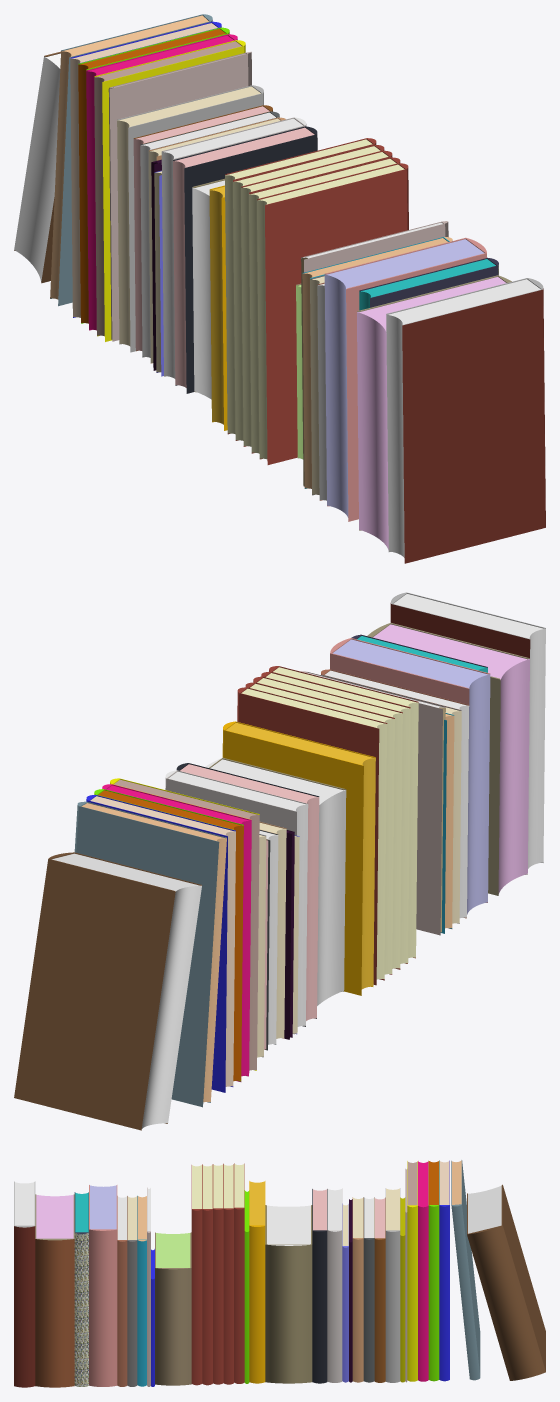
The model's file is kitap.obj.
3 renders of one model, top to bottom at view 1: azimuth 30°, elevation 25°; view 2: azimuth 150°, elevation 25°; view 3: azimuth 270°, elevation 25°, orthographic. The views are drawn at different scales.
Visible parts, largest first — view 1: Mesh11 Group12 Group1 Model, Mesh34 Group35 Group1 Model, Mesh15 Group16 Group1 Model, Mesh9 Group10 Group1 Model, Mesh5 Group6 Group1 Model, Mesh2 Group3 Group1 Model, Mesh18 Group19 Group1 Model, Mesh22 Group23 Group1 Model, Mesh20 Group21 Group1 Model, Mesh28 Group29 Group1 Model, Mesh6 Group7 Group1 Model, Mesh32 Group33 Group1 Model (+19 smaller); view 2: Mesh22 Group23 Group1 Model, Mesh28 Group29 Group1 Model, Mesh14 Group15 Group1 Model, Mesh9 Group10 Group1 Model, Mesh15 Group16 Group1 Model, Mesh11 Group12 Group1 Model, Mesh25 Group26 Group1 Model, Mesh32 Group33 Group1 Model, Mesh26 Group27 Group1 Model, Mesh21 Group22 Group1 Model, Mesh6 Group7 Group1 Model, Mesh5 Group6 Group1 Model (+16 smaller); view 3: Mesh22 Group23 Group1 Model, Mesh32 Group33 Group1 Model, Mesh9 Group10 Group1 Model, Mesh15 Group16 Group1 Model, Mesh27 Group28 Group1 Model, Mesh11 Group12 Group1 Model, Mesh14 Group15 Group1 Model, Mesh28 Group29 Group1 Model, Mesh2 Group3 Group1 Model, Mesh5 Group6 Group1 Model, Mesh6 Group7 Group1 Model, Mesh3 Group4 Group1 Model (+22 smaller).
Part boxes in pixels (x1,y1,x2,y2): Mesh11 Group12 Group1 Model: (386,278,545,563); Mesh34 Group35 Group1 Model: (257,163,408,464); Mesh15 Group16 Group1 Model: (324,237,486,521); Mesh9 Group10 Group1 Model: (357,275,511,549); Mesh5 Group6 Group1 Model: (173,126,317,393); Mesh2 Group3 Group1 Model: (117,85,263,352); Mesh18 Group19 Group1 Model: (108,51,251,341); Mesh22 Group23 Group1 Model: (14,51,60,283); Mesh20 Group21 Group1 Model: (94,40,245,341); Mesh28 Group29 Group1 Model: (50,14,212,306); Mesh6 Group7 Group1 Model: (161,117,306,378); Mesh32 Group33 Group1 Model: (192,178,224,399); Mesh22 Group23 Group1 Model: (14,852,201,1130); Mesh28 Group29 Group1 Model: (74,801,226,1107); Mesh14 Group15 Group1 Model: (222,721,375,995); Mesh9 Group10 Group1 Model: (367,623,529,895); Mesh15 Group16 Group1 Model: (330,638,490,914); Mesh11 Group12 Group1 Model: (390,592,545,868); Mesh25 Group26 Group1 Model: (237,687,387,985); Mesh32 Group33 Group1 Model: (205,757,346,1005); Mesh26 Group27 Group1 Model: (301,671,445,935); Mesh21 Group22 Group1 Model: (86,795,235,1092); Mesh6 Group7 Group1 Model: (165,770,308,1034); Mesh5 Group6 Group1 Model: (176,763,319,1026); Mesh22 Group23 Group1 Model: (467,1184,545,1380); Mesh32 Group33 Group1 Model: (265,1205,312,1383); Mesh9 Group10 Group1 Model: (35,1194,74,1387); Mesh15 Group16 Group1 Model: (89,1185,117,1386); Mesh27 Group28 Group1 Model: (155,1232,191,1385); Mesh11 Group12 Group1 Model: (14,1181,35,1387); Mesh14 Group15 Group1 Model: (249,1181,265,1383); Mesh28 Group29 Group1 Model: (451,1160,480,1380); Mesh2 Group3 Group1 Model: (385,1188,400,1382); Mesh5 Group6 Group1 Model: (312,1189,327,1383); Mesh6 Group7 Group1 Model: (327,1188,342,1382); Mesh3 Group4 Group1 Model: (74,1192,88,1386).
Size of the model in its own units: 6.47 by 10.83 by 28.92.
